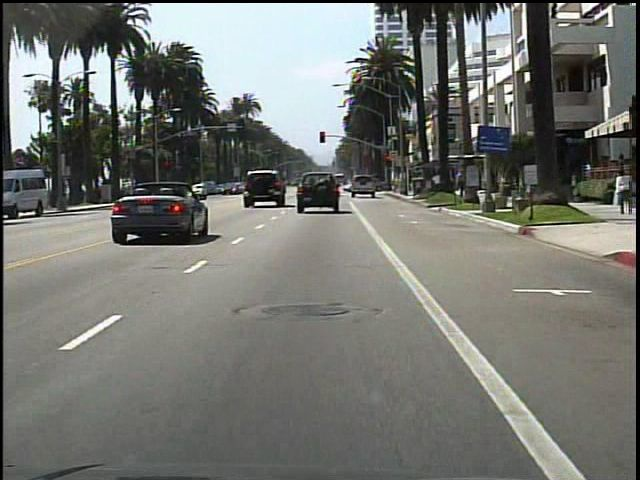person: (613, 167, 632, 217), (430, 171, 444, 196)
